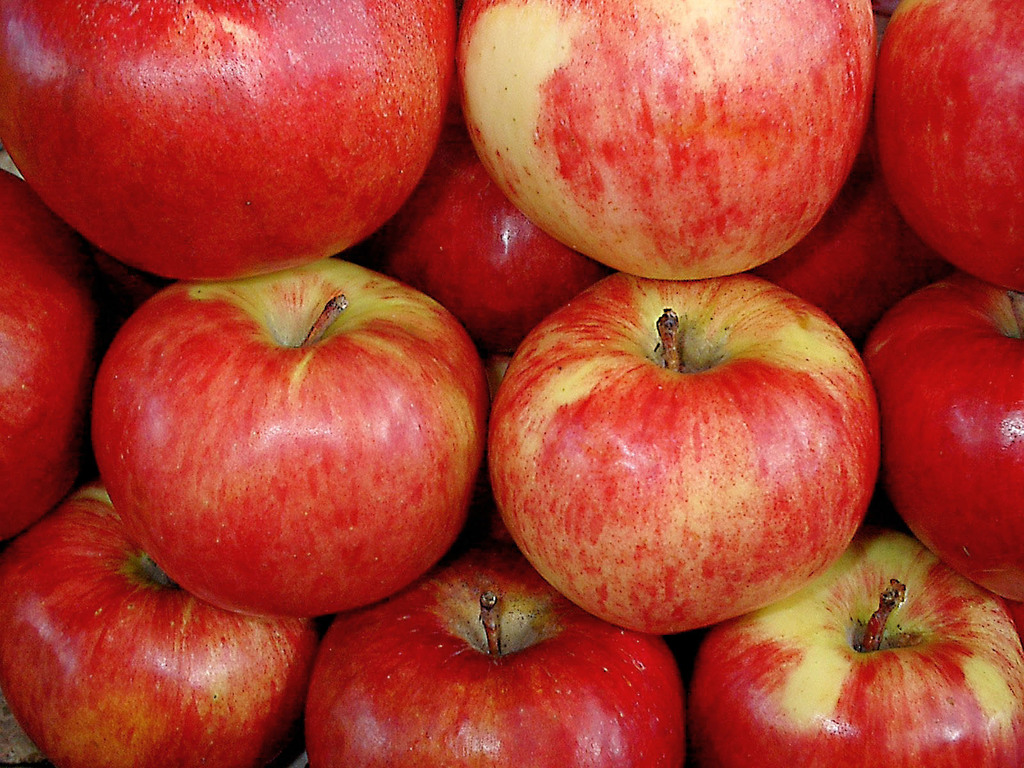Apple: (0, 0, 1023, 765), (91, 255, 483, 615), (451, 0, 878, 282)
